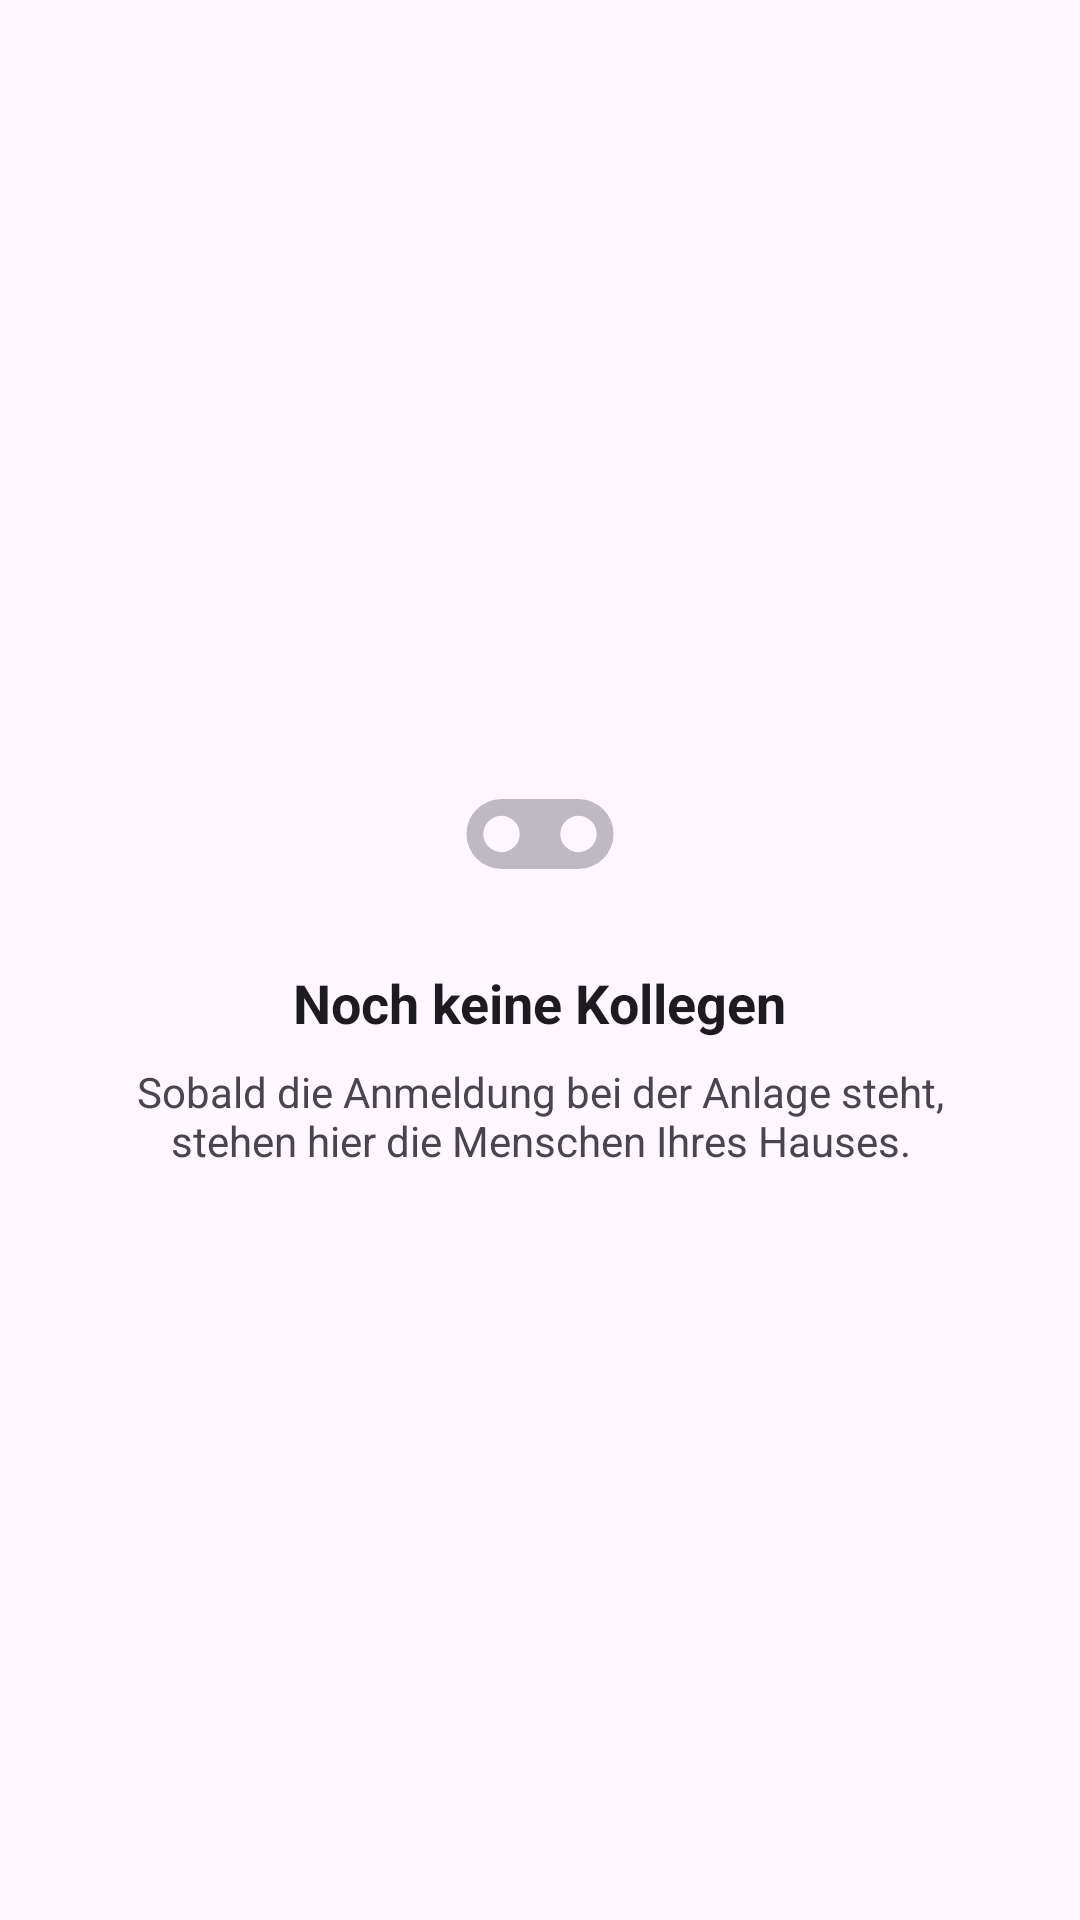

Where icons sit on this 1080px x 1920px app screen, as {"left": x1, "top": y1, "right": x2, "bottom": y2}:
voicemail: {"left": 466, "top": 799, "right": 614, "bottom": 869}
